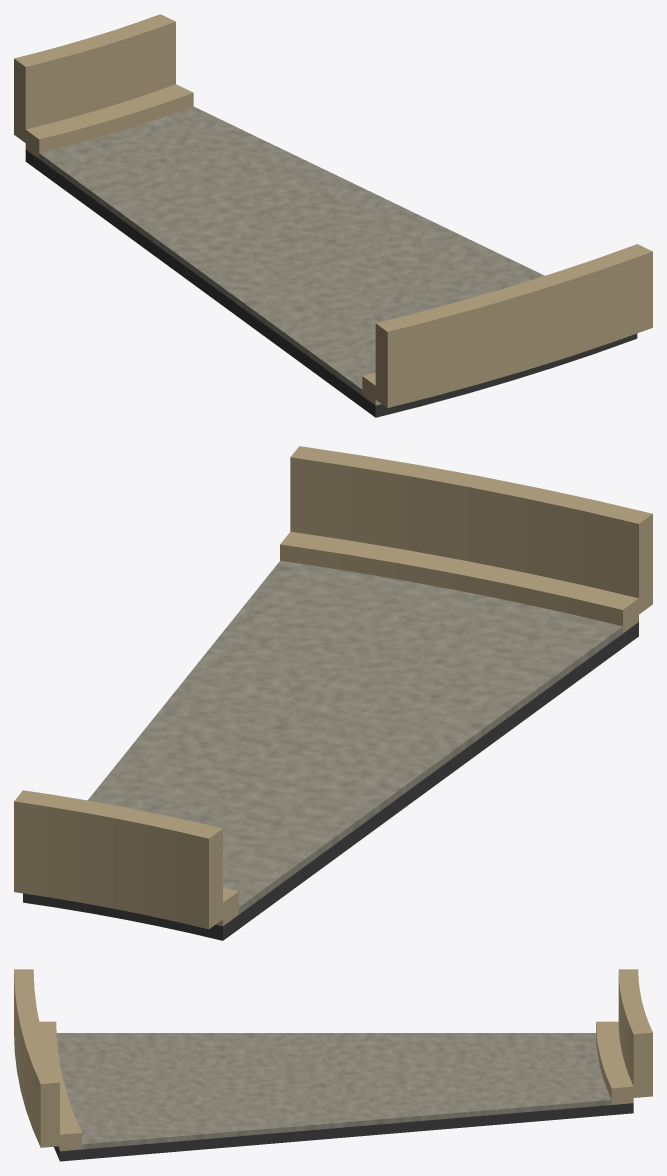
Rendered from road_curve_guarded_left_11_25.glb.
The picture shows the model from 3 angles, top to bottom: view 1: azimuth 30°, elevation 25°; view 2: azimuth 150°, elevation 25°; view 3: azimuth 270°, elevation 25°; orthographic projection. The views are drawn at different scales.
Visible parts, largest first — view 1: Concrete curve, Curved parapet.001, Curved parapet, Curve base, Curved curb; view 2: Concrete curve, Curved parapet.001, Curved parapet, Curved curb.001, Curve base; view 3: Concrete curve, Curve base, Curved parapet.001, Curved parapet, Curved curb, Curved curb.001.
Boxes of the visible parts, x1,y1,x2,y2 form: Concrete curve: [39, 106, 544, 395]; Curved parapet.001: [375, 244, 652, 407]; Curved parapet: [14, 14, 175, 142]; Curve base: [25, 149, 637, 417]; Curved curb: [25, 84, 193, 158]; Concrete curve: [87, 560, 622, 914]; Curved parapet.001: [290, 446, 652, 614]; Curved parapet: [14, 790, 222, 929]; Curved curb.001: [280, 531, 638, 633]; Curve base: [23, 622, 638, 940]; Concrete curve: [56, 1033, 611, 1149]; Curve base: [54, 1103, 633, 1161]; Curved parapet.001: [14, 969, 59, 1147]; Curved parapet: [618, 969, 652, 1097]; Curved curb: [596, 1021, 633, 1104]; Curved curb.001: [39, 1021, 81, 1151].
Size of the model in its own units: 386 by 124 by 909.
3 materials, 1 textured.
